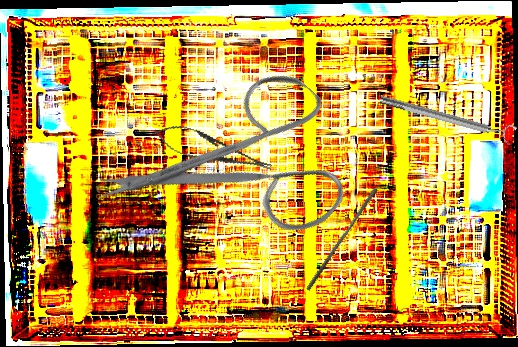Fixation Ring: (377, 87, 518, 148)
Iris Scissors: (92, 23, 385, 318)
Needle Holder: (150, 117, 276, 183)
Pusher: (305, 185, 379, 294)
